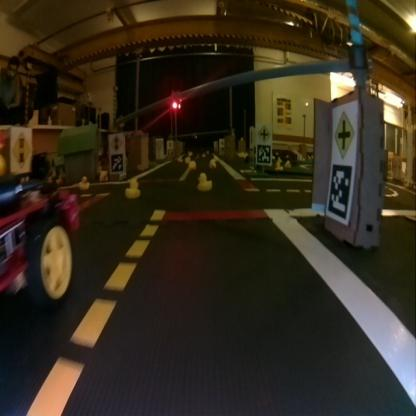Duckie: (125, 179, 140, 197), (198, 173, 211, 190), (79, 176, 88, 189), (99, 170, 108, 180), (188, 160, 194, 169), (209, 158, 215, 166)
Duckiebot: (1, 185, 77, 303)
Intersection sign: (332, 110, 352, 153), (256, 124, 270, 140)
QR code: (326, 164, 352, 219), (257, 143, 270, 162), (111, 153, 122, 170)
Signal sign: (10, 131, 32, 169), (110, 135, 122, 150)
Traffic light: (169, 95, 181, 110)
